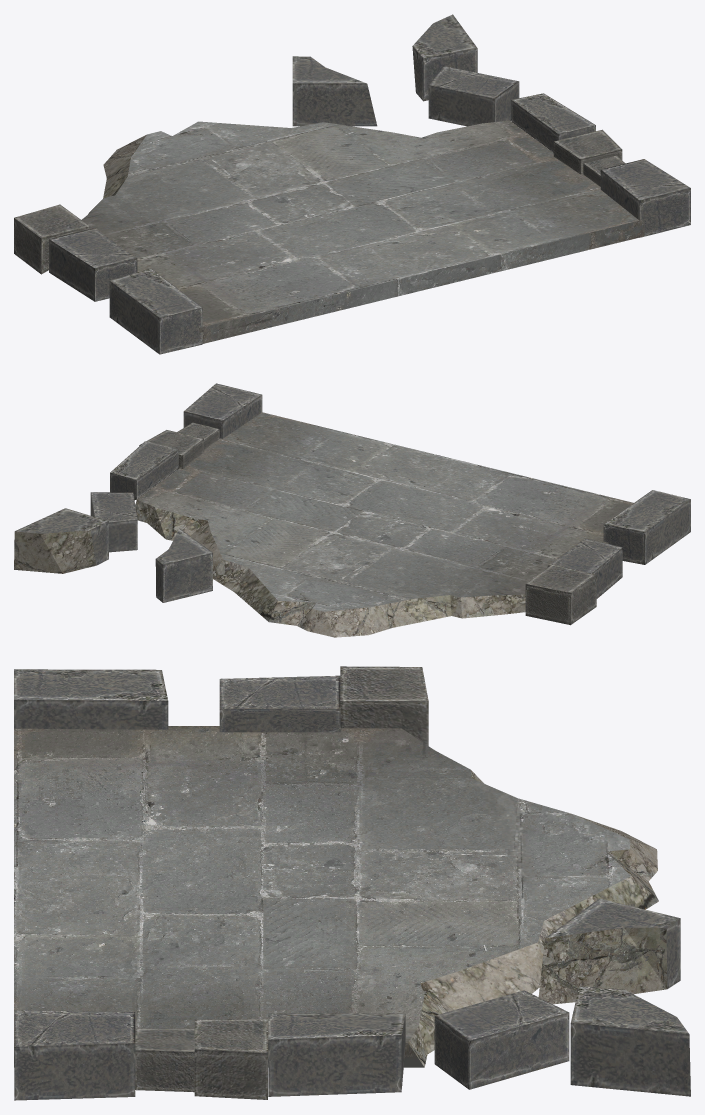
The model's file is bg_lut_lucastle_street06_sm_phs.FBX.
The picture shows the model from 3 angles, top to bottom: view 1: azimuth 30°, elevation 25°; view 2: azimuth 150°, elevation 25°; view 3: azimuth 270°, elevation 25°; orthographic projection. The views are drawn at different scales.
Visible parts, largest first — view 1: bg_lut_lucastle_street06_sm_phs; view 2: bg_lut_lucastle_street06_sm_phs; view 3: bg_lut_lucastle_street06_sm_phs.
Part boxes in pixels (x1,y1,x2,y2): bg_lut_lucastle_street06_sm_phs: (14, 14, 690, 354); bg_lut_lucastle_street06_sm_phs: (14, 383, 690, 637); bg_lut_lucastle_street06_sm_phs: (14, 666, 690, 1100).
Bounding box in the file's own units: 400 × 31.1 × 299.
